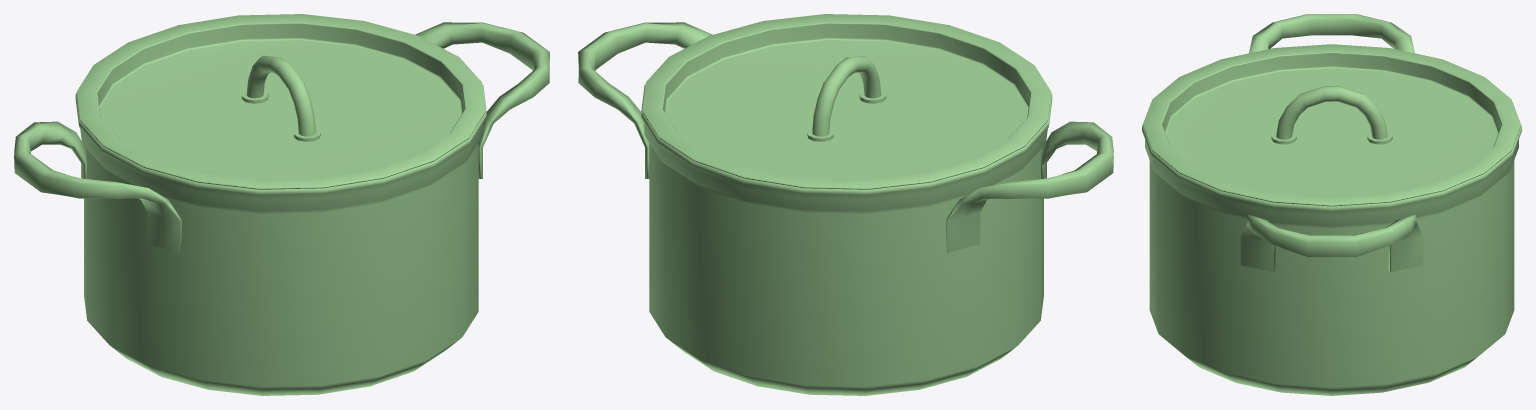
The model's file is pot02.fbx.
The picture shows the model from 3 angles, left to right: view 1: azimuth 30°, elevation 25°; view 2: azimuth 150°, elevation 25°; view 3: azimuth 270°, elevation 25°; orthographic projection. The views are drawn at different scales.
Visible parts, largest first — view 1: Pot01_Modelling_v003:Pot_Body, Pot01_Modelling_v003:Pot_Lid; view 2: Pot01_Modelling_v003:Pot_Body, Pot01_Modelling_v003:Pot_Lid; view 3: Pot01_Modelling_v003:Pot_Body, Pot01_Modelling_v003:Pot_Lid.
Part boxes in pixels (<box>): Pot01_Modelling_v003:Pot_Body: <box>14,22,549,395</box>; Pot01_Modelling_v003:Pot_Lid: <box>77,14,485,189</box>; Pot01_Modelling_v003:Pot_Body: <box>578,22,1113,395</box>; Pot01_Modelling_v003:Pot_Lid: <box>642,14,1050,189</box>; Pot01_Modelling_v003:Pot_Body: <box>1142,14,1521,395</box>; Pot01_Modelling_v003:Pot_Lid: <box>1143,44,1520,206</box>.
Bounding box in the file's own units: 58.28 × 28.49 × 40.96.
1 material, 1 textured.
